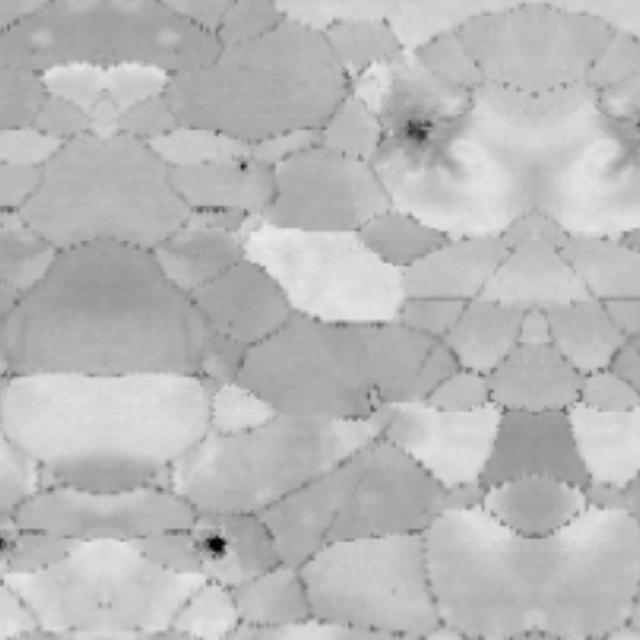good_void: (166, 528, 248, 567), (190, 191, 247, 221), (393, 114, 440, 146), (0, 529, 45, 562), (0, 192, 20, 219), (234, 157, 256, 173), (632, 115, 640, 146)
